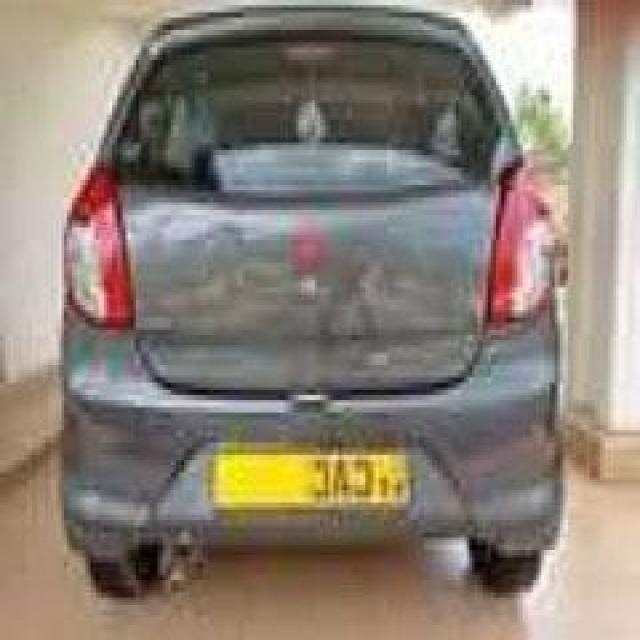car: (31, 12, 572, 612)
